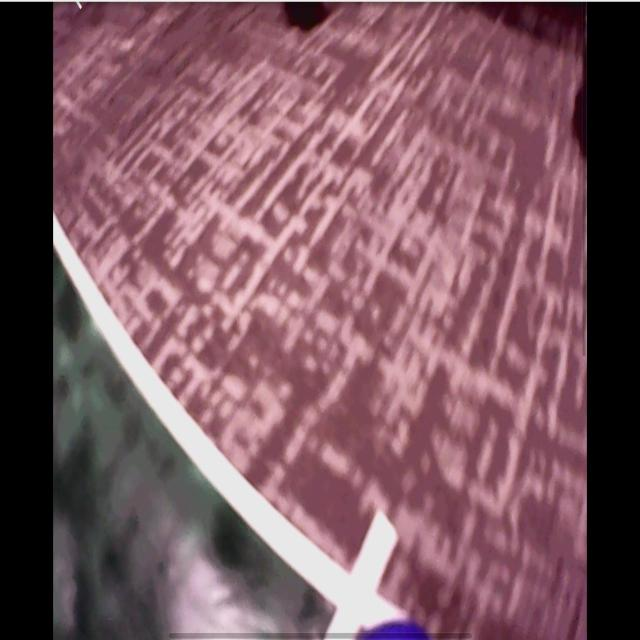ball: (367, 618, 430, 640)
